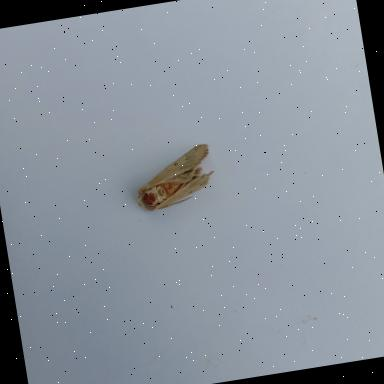abw: (125, 138, 220, 218)
